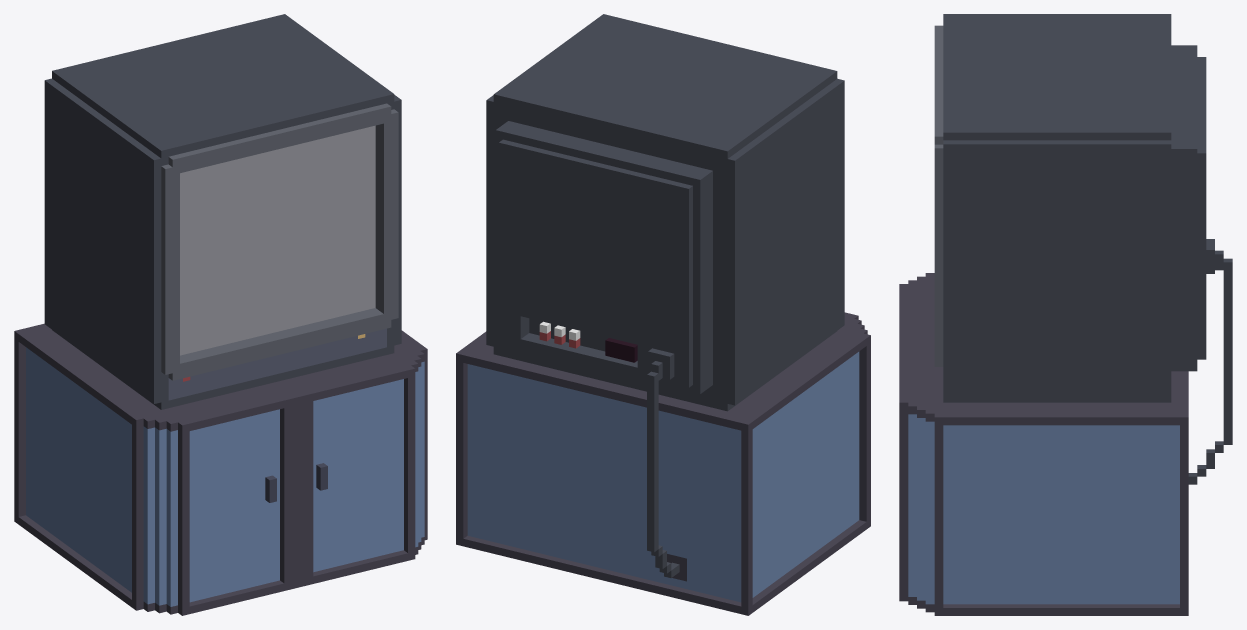
The model's file is TvSmall.fbx.
3 renders of one model, left to right at view 1: azimuth 30°, elevation 25°; view 2: azimuth 150°, elevation 25°; view 3: azimuth 270°, elevation 25°, orthographic. The views are drawn at different scales.
Parts seen in each view (by area): view 1: TVSmall; view 2: TVSmall; view 3: TVSmall.
Part boxes in pixels (x1,y1,x2,y2): TVSmall: (14, 14, 427, 615); TVSmall: (456, 14, 870, 615); TVSmall: (899, 14, 1232, 615).
Size of the model in its own units: 250 by 369 by 238.
